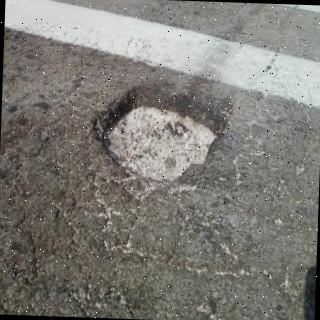pothole: (93, 89, 231, 181)
